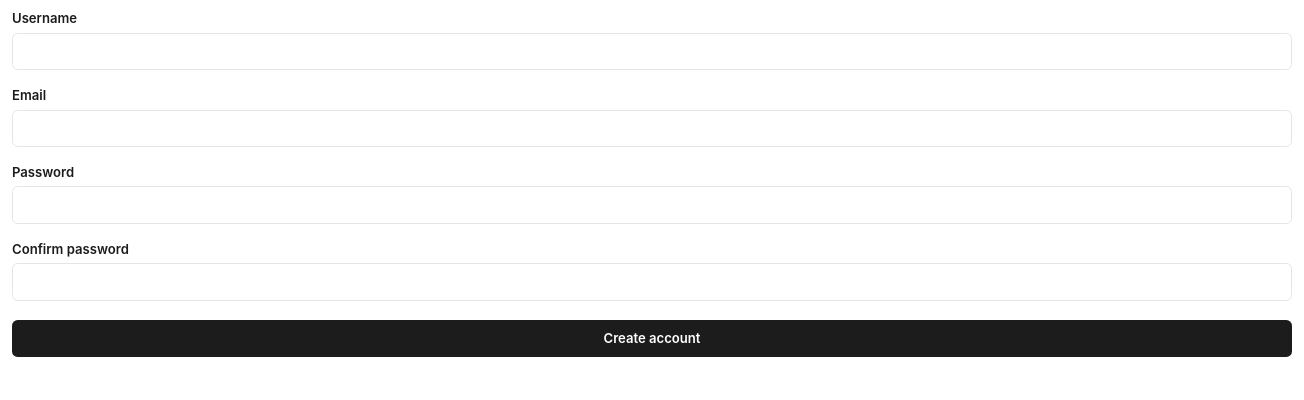
Test: RegisterForm › should reject an email without a valid domain
Type "user" into the field labelled "Username" at (652, 51), box [12,33,1292,70]
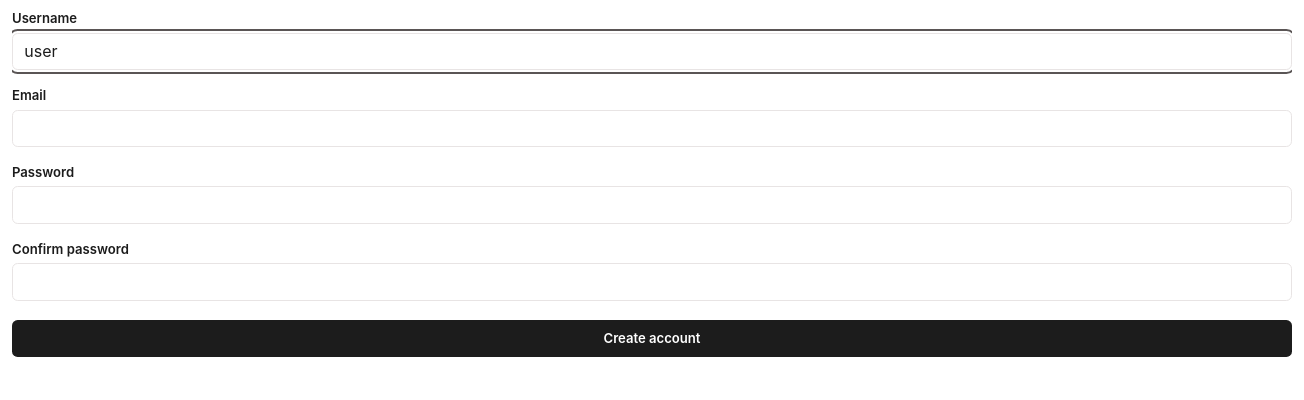
Type "user@localhost" into the field labelled "Email" at (652, 128), box [12,110,1292,147]
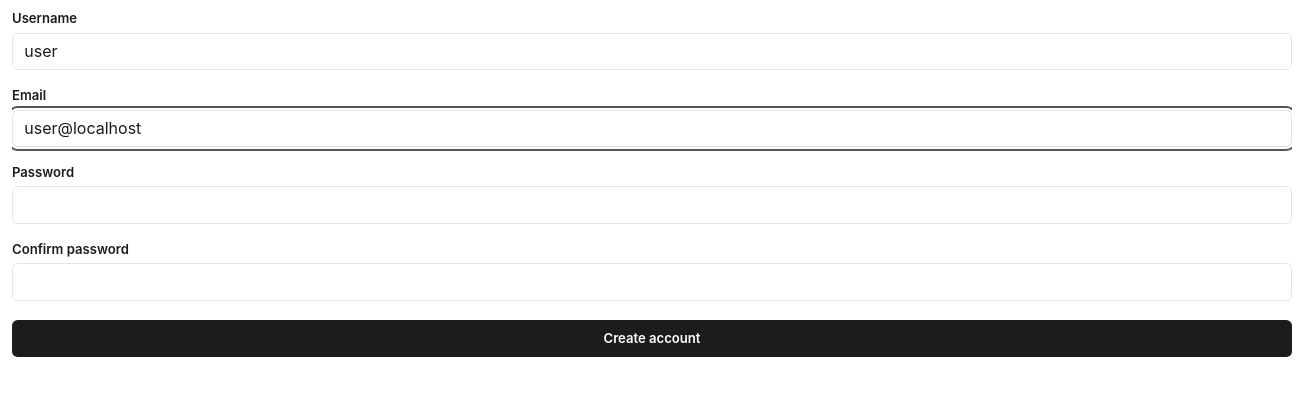
Type "secret-12" into the password field labelled "Password" at (652, 205), box [12,186,1292,224]
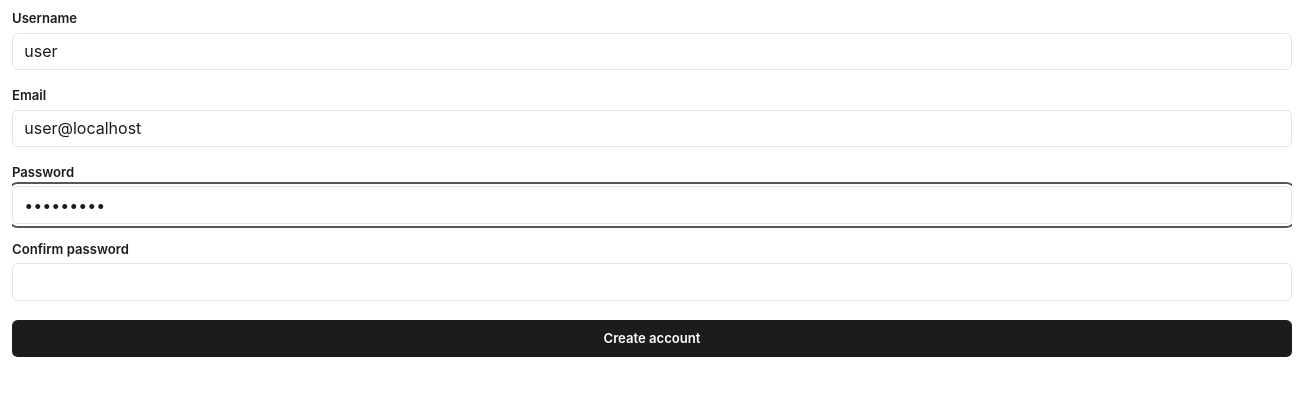
Type "secret-12" into the password field labelled "Confirm password" at (652, 282), box [12,263,1292,301]
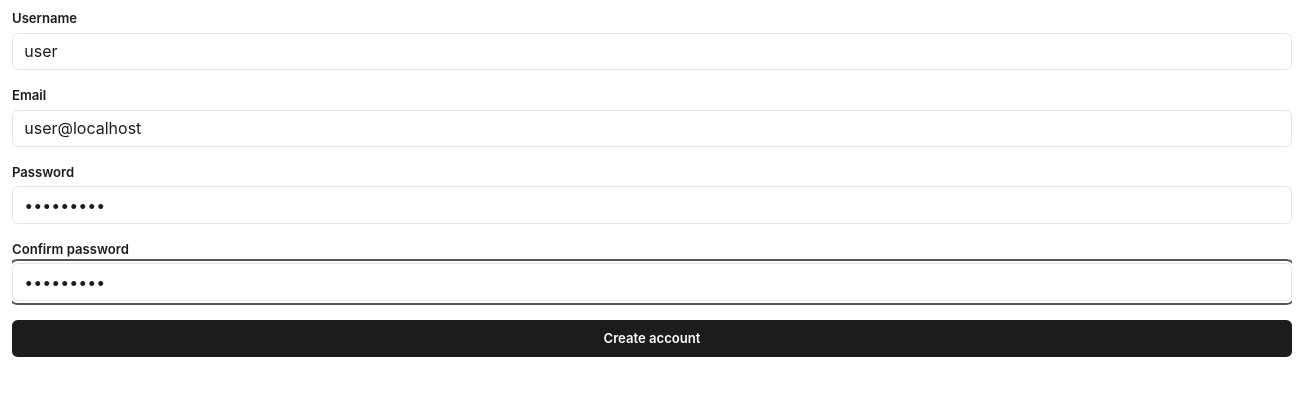
Click the button "Create account" at (652, 338), box [12,320,1292,357]
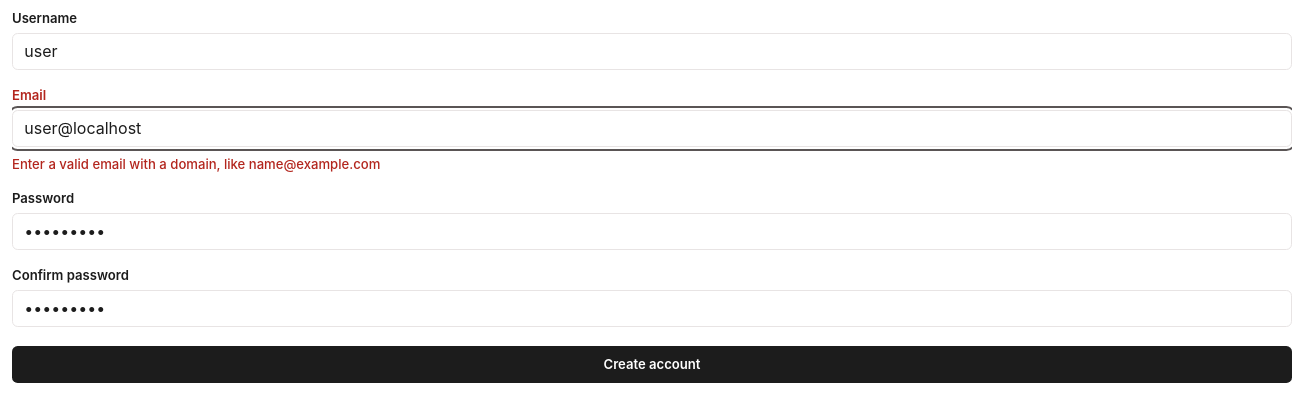
Expected: the text "Enter a valid email with a domain, like name@example.com" is shown, [12,156,380,172]
